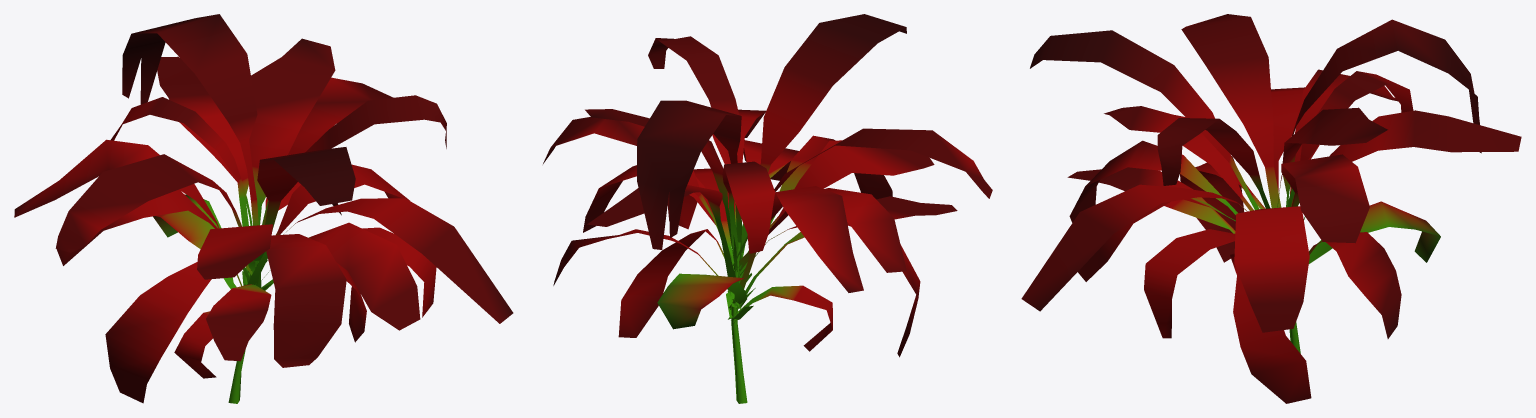
The model's file is Var6_LOD2.fbx.
3 renders of one model, left to right at view 1: azimuth 30°, elevation 25°; view 2: azimuth 150°, elevation 25°; view 3: azimuth 270°, elevation 25°, orthographic. The views are drawn at different scales.
Visible parts, largest first — view 1: _df57_Var6_LOD2; view 2: _df57_Var6_LOD2; view 3: _df57_Var6_LOD2.
Boxes of the visible parts, bbox=[...] form: _df57_Var6_LOD2: bbox=[14, 14, 513, 403]; _df57_Var6_LOD2: bbox=[543, 14, 992, 403]; _df57_Var6_LOD2: bbox=[1021, 14, 1521, 403].
Bounding box in the file's own units: 29.72 × 24.14 × 31.43.
